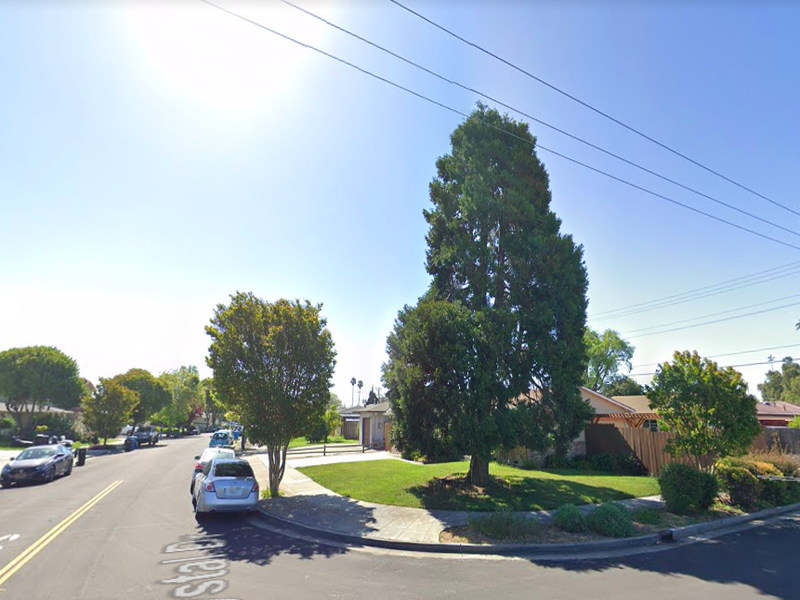tree: (380, 99, 597, 494), (203, 287, 339, 502)
